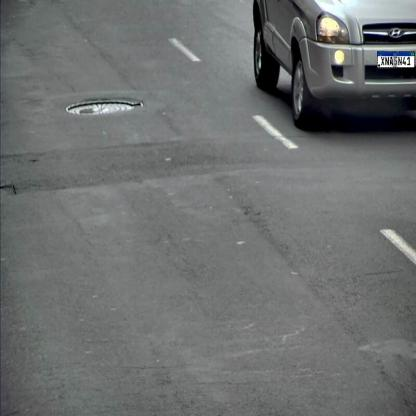PlacaM: (377, 51, 415, 68)
